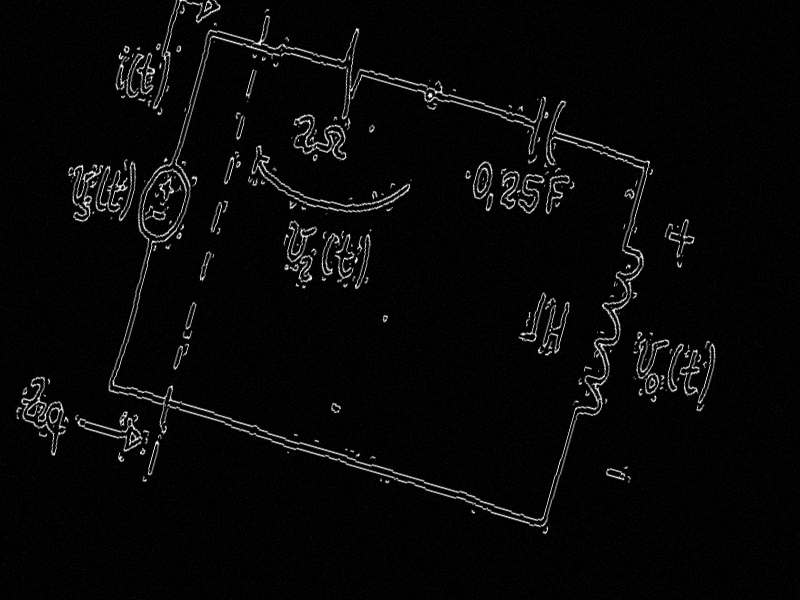-: (603, 464, 627, 484), (148, 206, 169, 223)
0: (467, 156, 498, 204), (641, 370, 662, 398)
1: (515, 286, 552, 350)
2: (289, 109, 325, 159), (493, 166, 524, 211), (293, 252, 317, 286)
5: (513, 169, 547, 219)
F: (538, 169, 572, 219)
H: (536, 293, 574, 356)
V: (627, 327, 672, 387), (277, 215, 320, 271), (62, 159, 100, 212)
